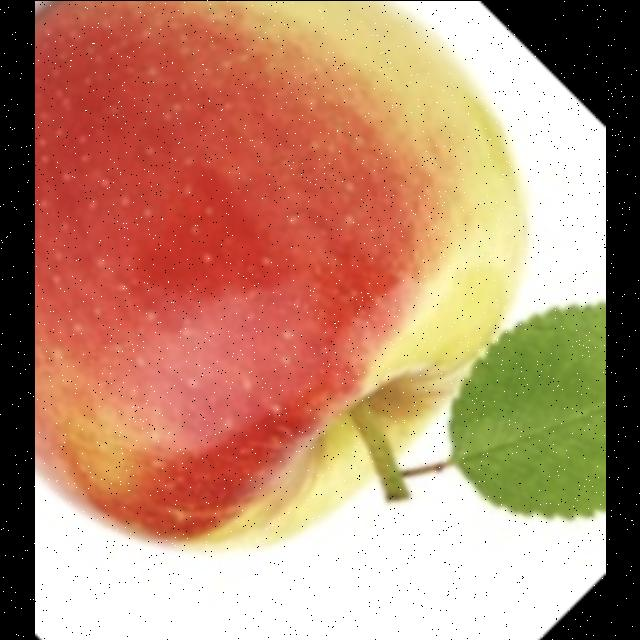Apel Segar: (34, 0, 533, 554)
